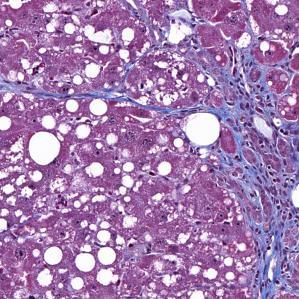fibrosis: (210, 154, 299, 262), (197, 53, 299, 147)
